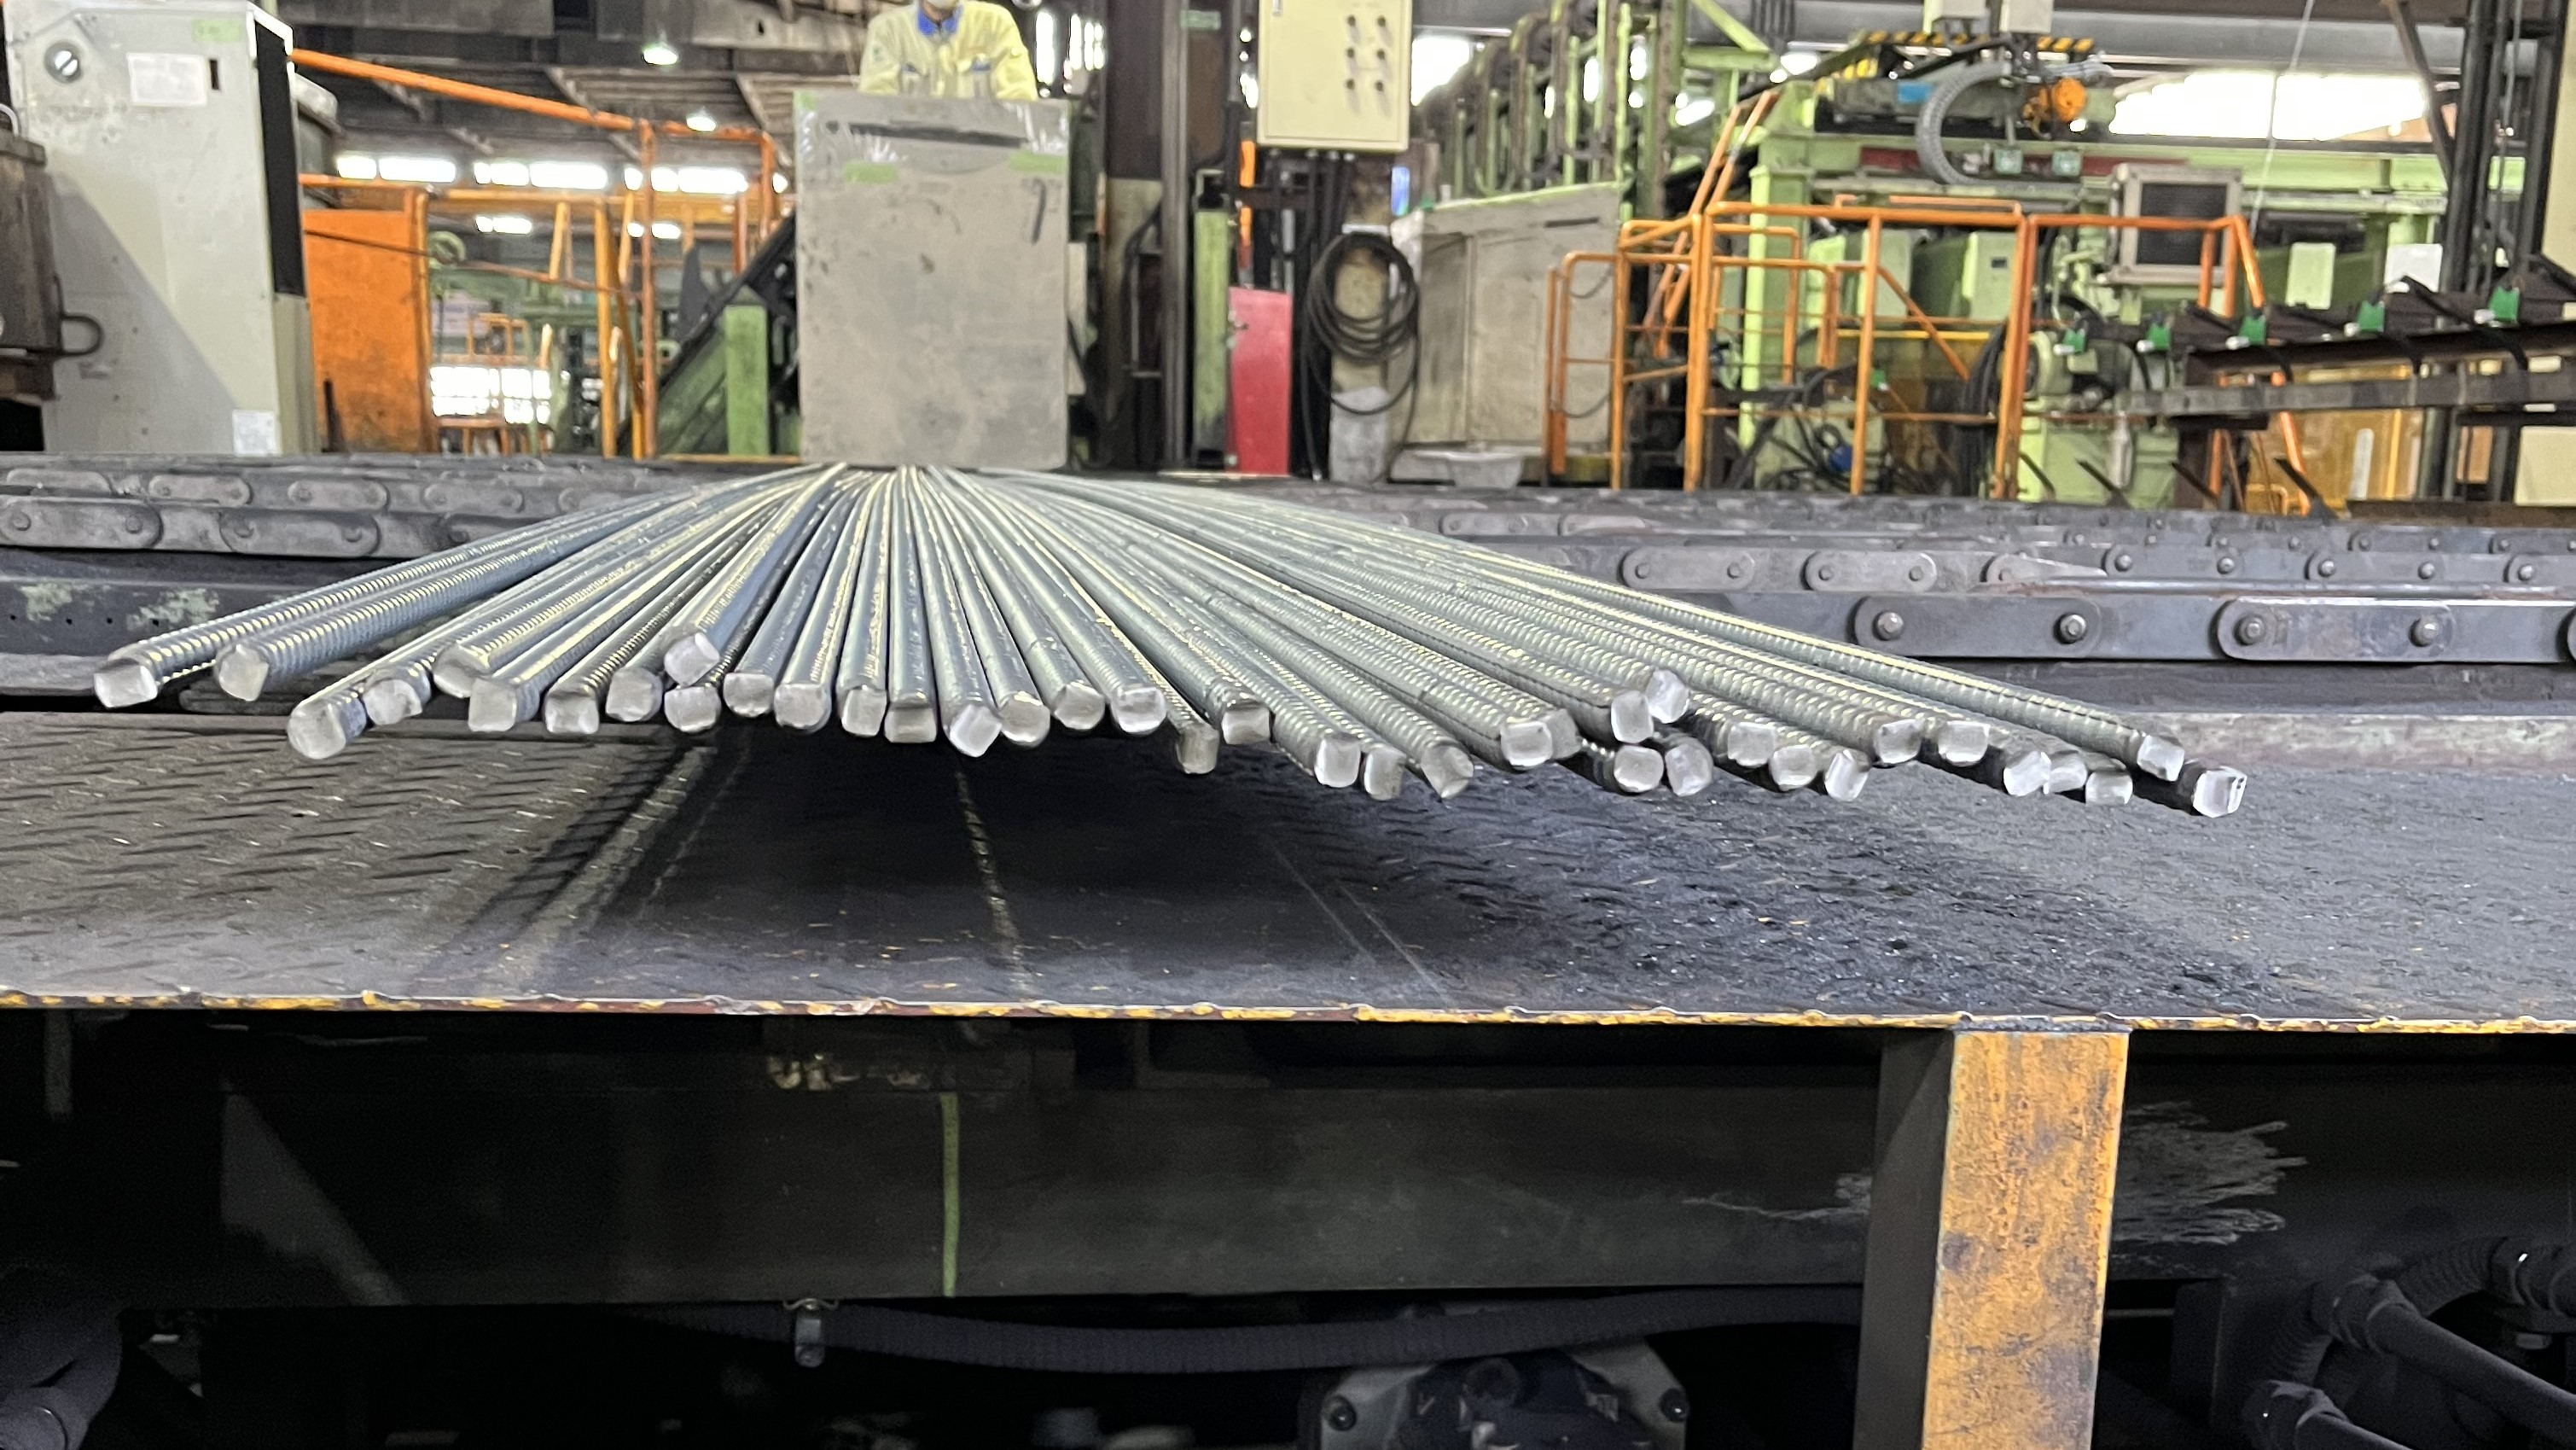rod: (285, 698, 347, 760), (92, 657, 159, 710), (216, 643, 271, 706), (603, 666, 662, 724), (947, 701, 1003, 760), (1419, 740, 1474, 800), (660, 632, 722, 685), (361, 676, 425, 728), (430, 646, 490, 699), (771, 682, 832, 735), (1111, 682, 1168, 737), (998, 690, 1051, 749), (1499, 719, 1555, 772), (541, 687, 602, 737), (1821, 745, 1872, 802), (467, 675, 517, 733), (1642, 666, 1690, 726), (1610, 742, 1665, 793), (1313, 731, 1362, 788), (1934, 717, 1990, 767), (1053, 680, 1106, 731), (1762, 742, 1817, 791), (663, 687, 720, 735), (1608, 687, 1654, 745), (2135, 731, 2187, 783), (722, 671, 775, 719), (1221, 699, 1274, 747), (1725, 721, 1778, 768), (1665, 742, 1711, 797), (881, 701, 938, 745), (2001, 749, 2051, 798), (842, 683, 886, 738), (1361, 745, 1403, 802), (2190, 768, 2236, 820), (1875, 717, 1923, 765), (1177, 722, 1219, 775), (2042, 747, 2089, 793), (1541, 706, 1582, 760), (2082, 767, 2134, 807)
